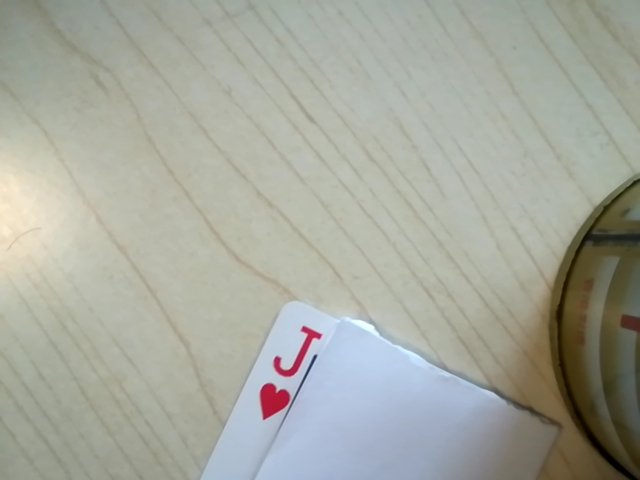hx j: (247, 324, 325, 428)
